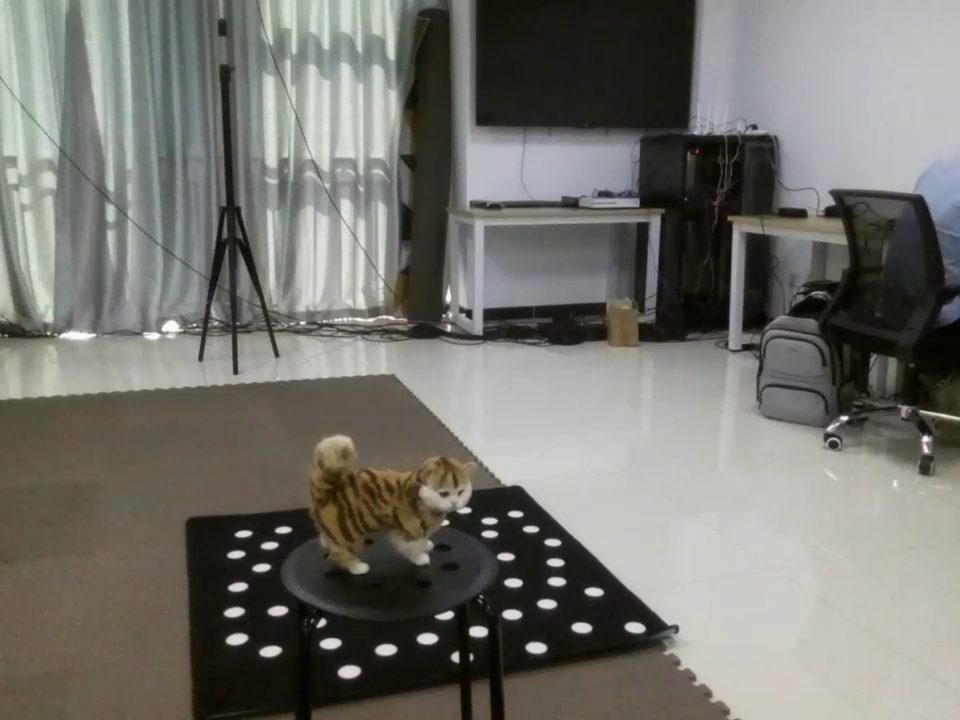cat: (292, 434, 486, 568)
